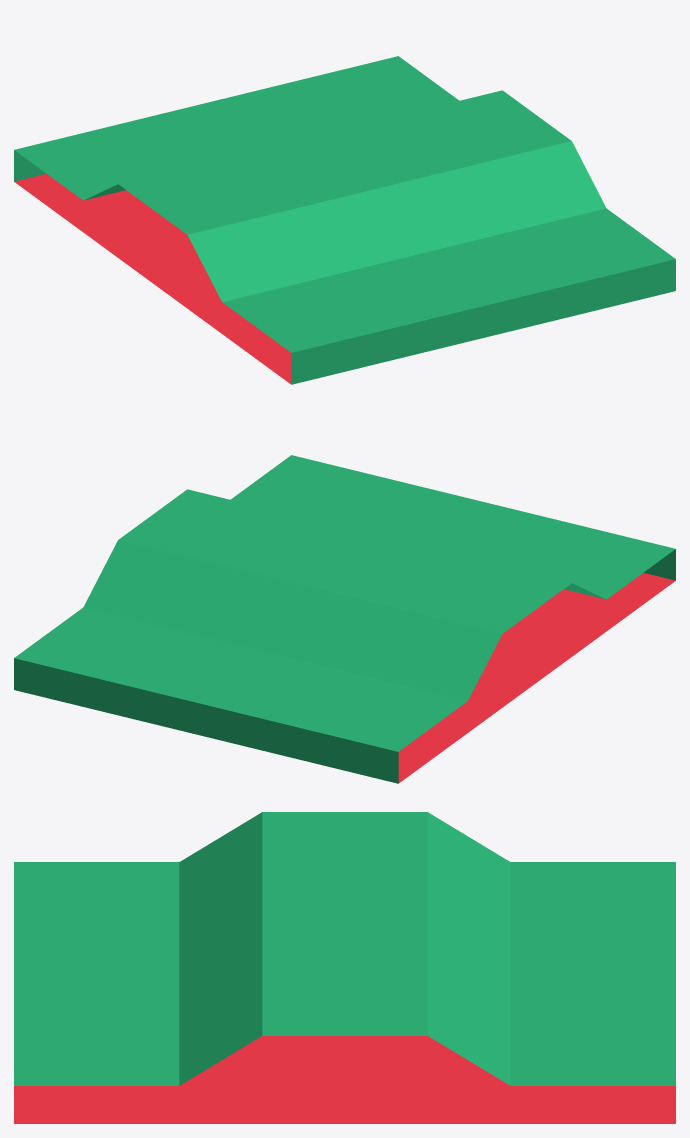
The model's file is HillSquare (grass).fbx.
3 views of the same model, one above another, from view 1: azimuth 30°, elevation 25°; view 2: azimuth 150°, elevation 25°; view 3: azimuth 270°, elevation 25° (orthographic). The views are drawn at different scales.
Parts seen in each view (by area): view 1: hillSquare; view 2: hillSquare; view 3: hillSquare.
Boxes of the visible parts, left/top/right/bottom form: hillSquare: left=14, top=56, right=675, bottom=384; hillSquare: left=14, top=455, right=675, bottom=783; hillSquare: left=14, top=812, right=675, bottom=1123.
Size of the model in its own units: 31.49 by 5.77 by 39.37.
